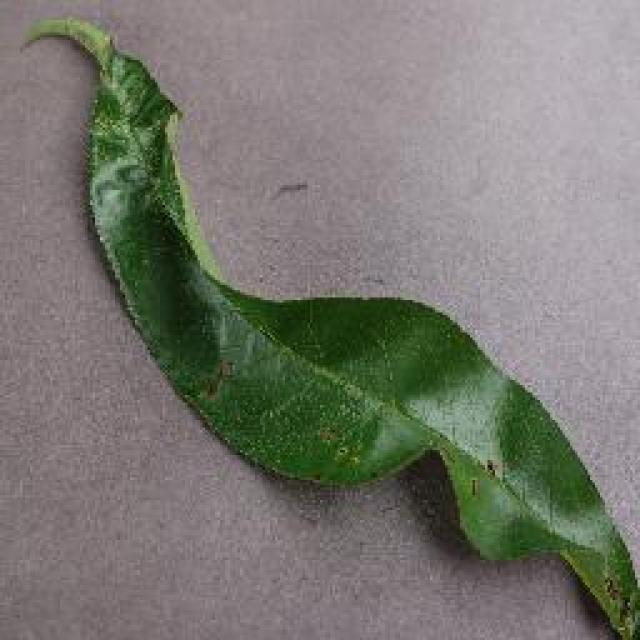Peach_Bacterial_Spot: (143, 177, 515, 518)
